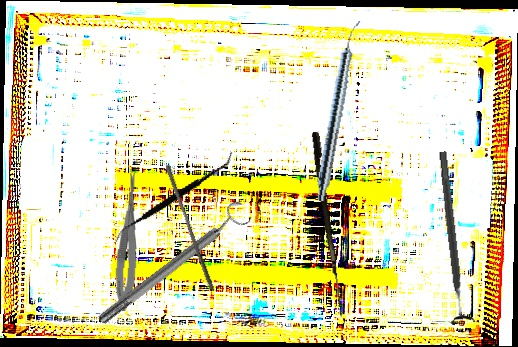Fixation Ring: (90, 197, 256, 332), (429, 149, 478, 326)
Handpiece: (313, 18, 363, 203)
Hook Surgical: (307, 131, 352, 318)
Micro Scissor: (113, 167, 142, 312)
Pusher: (160, 164, 220, 292)
Spatula Surgical: (113, 122, 234, 271)
